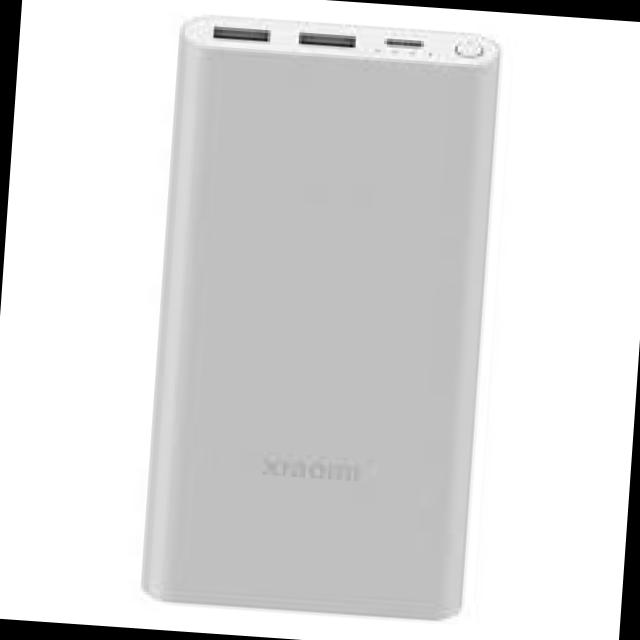power_bank: (134, 6, 511, 632)
